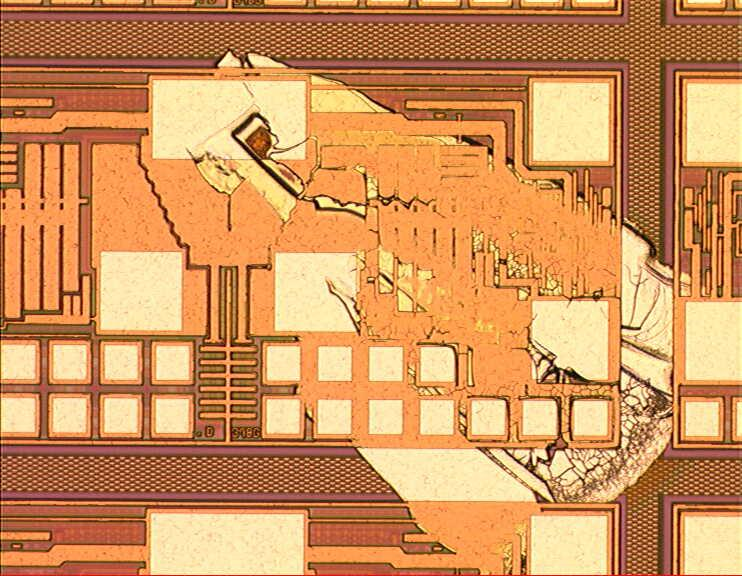BLOCK ETCH: (139, 51, 723, 575)
